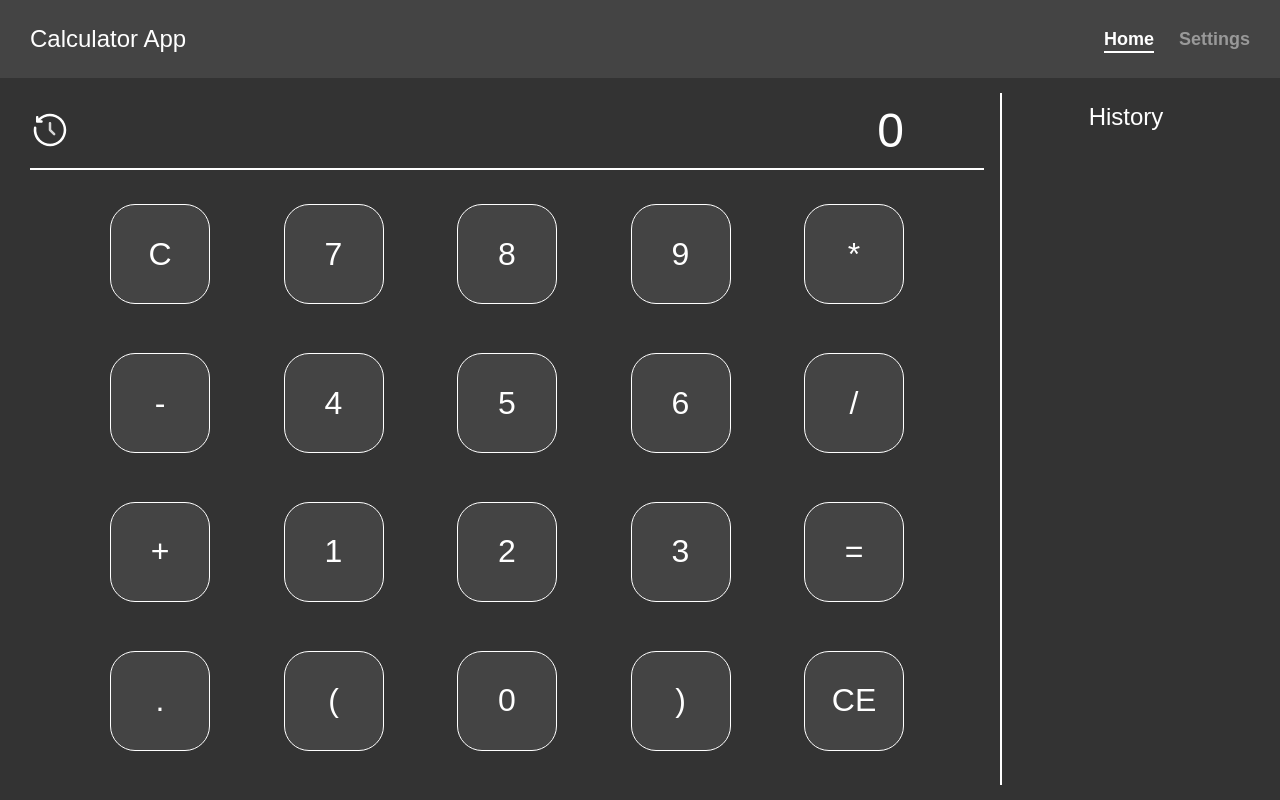
Test case: Keyboard spec › Should change last operator on new operator
This screenshot has width=1280, height=800.
Expected: the field with test id "display" holds "0", [110,103,904,158]
Click the button "+". click: (160, 552)
box: [110,502,210,602]
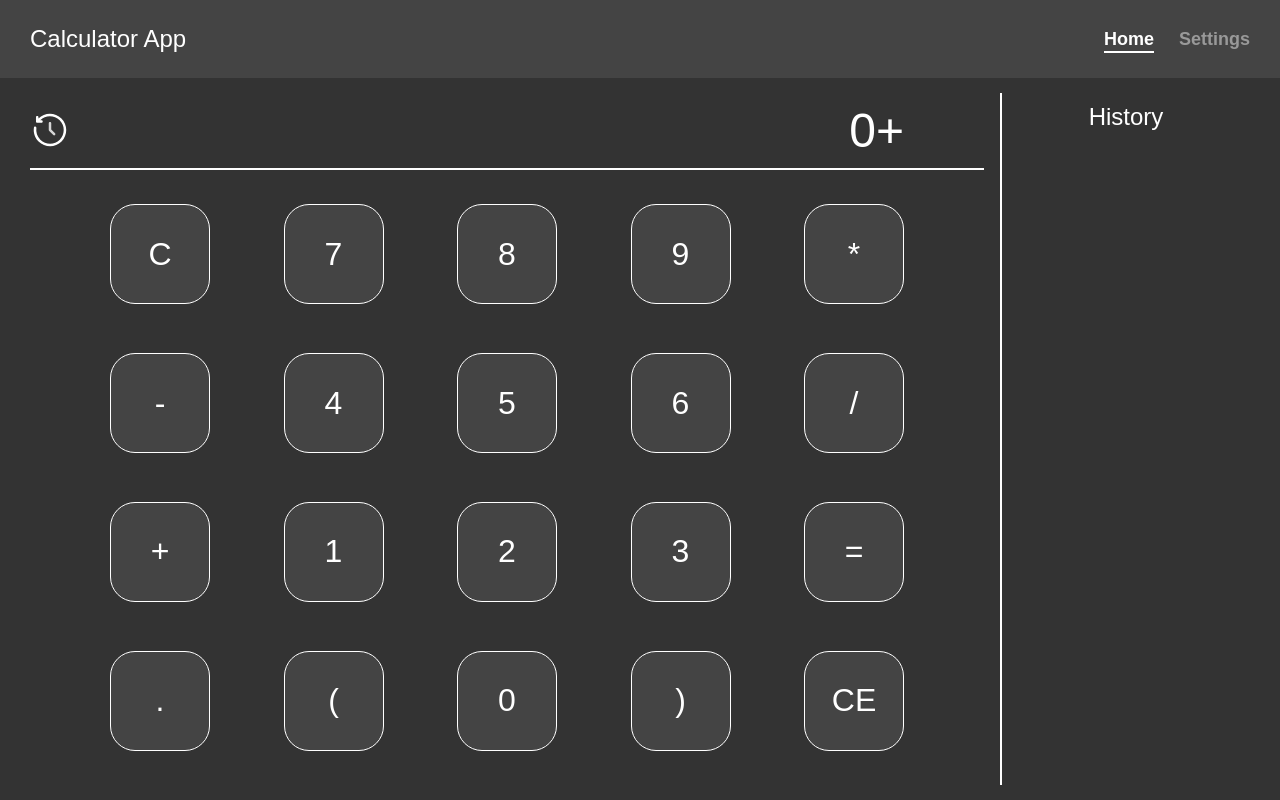
Now the field with test id "display" holds "0+", box [110,103,904,158]
Click the button "*". click: (854, 254)
box: [804,204,904,304]
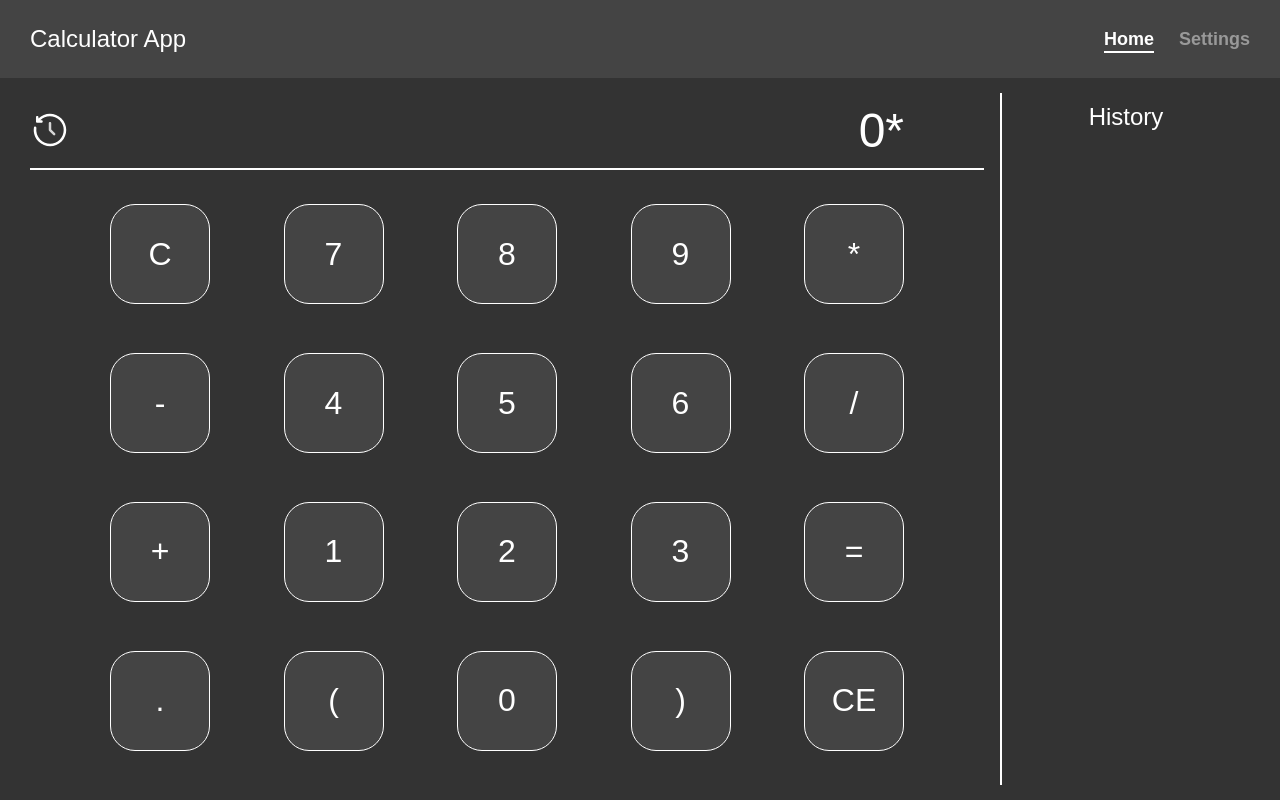
Now the field with test id "display" holds "0*", box [110,103,904,158]
